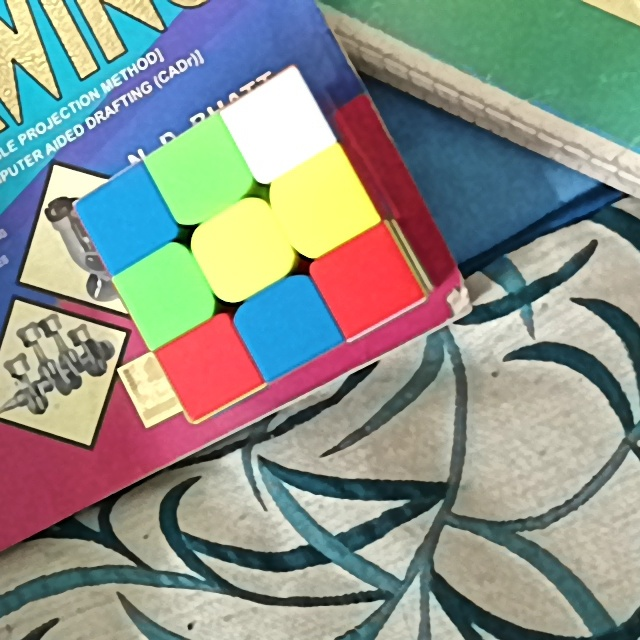tile: (286, 171, 353, 238), (167, 146, 234, 204), (247, 99, 309, 157), (338, 251, 399, 309), (212, 222, 272, 278), (138, 263, 194, 323), (97, 192, 152, 253), (176, 341, 234, 397), (260, 298, 312, 354)
